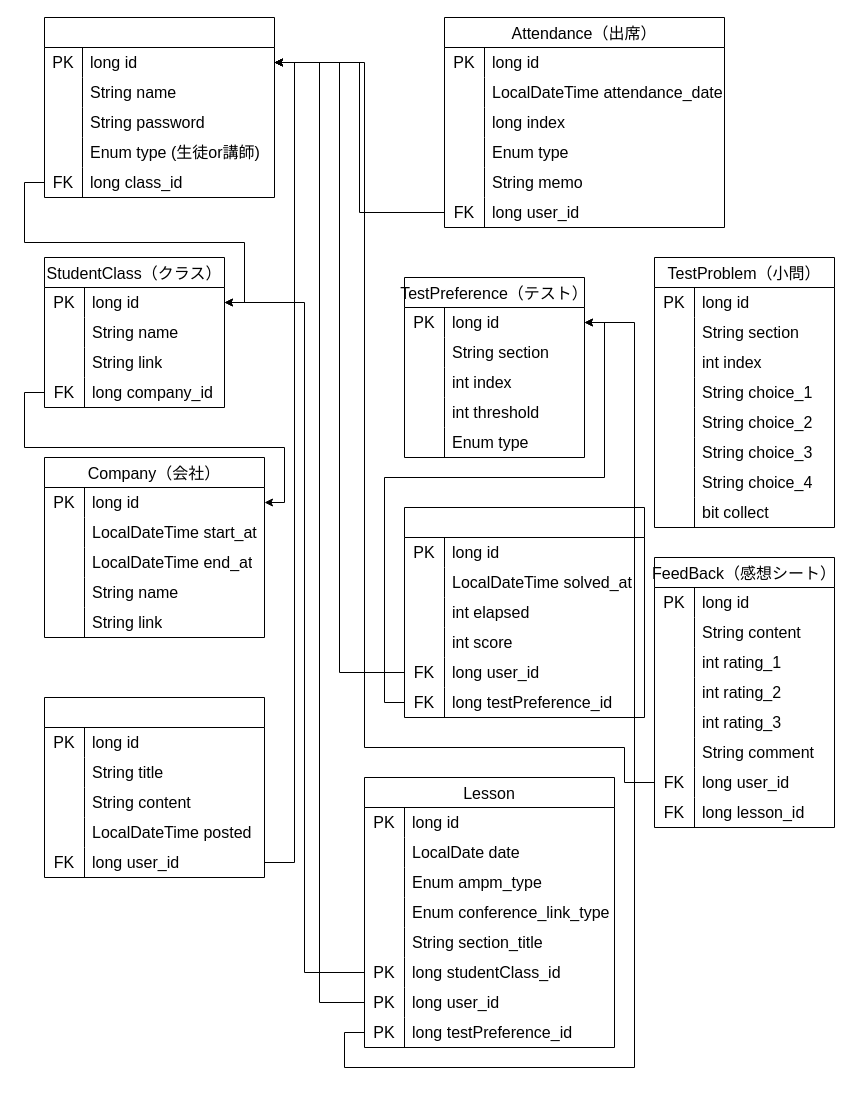
The diagram is 854 pixels wide and 1093 high, and some of its shapes have lost their labels. The box of each missing label's shape, as (x1, y1, x2, y2) in pixels:
DailyReport（日報）: (44, 696, 264, 878)
TestResult（結果）: (404, 506, 644, 718)
User（生徒・講師）: (44, 16, 274, 198)
